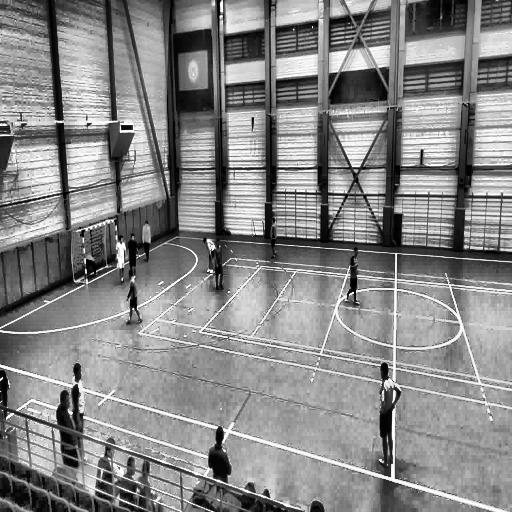player: (376, 358, 402, 469), (71, 367, 86, 459), (126, 264, 141, 323), (346, 246, 358, 306), (115, 235, 127, 284), (203, 237, 216, 275), (214, 239, 223, 290), (84, 252, 98, 282), (128, 234, 138, 274), (142, 221, 151, 263), (270, 218, 277, 258)
